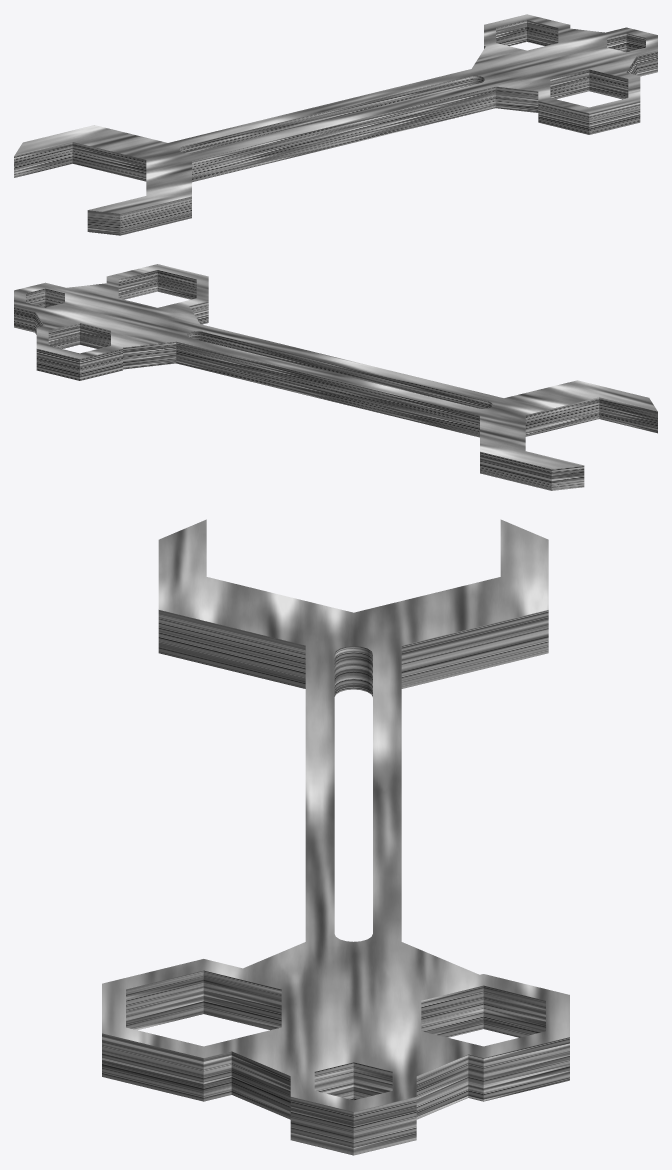
The model's file is TOOLS_Templates_Colour_TEST.obj.
The picture shows the model from 3 angles, top to bottom: view 1: azimuth 30°, elevation 25°; view 2: azimuth 150°, elevation 25°; view 3: azimuth 270°, elevation 25°; orthographic projection. The views are drawn at different scales.
Visible parts, largest first — view 1: object_1; view 2: object_1; view 3: object_1.
Part boxes in pixels (x1,y1,x2,y2): object_1: [14, 14, 657, 235]; object_1: [14, 264, 657, 490]; object_1: [102, 519, 569, 1155].
Size of the model in its own units: 146 by 5 by 48.75.
1 material, 1 textured.
